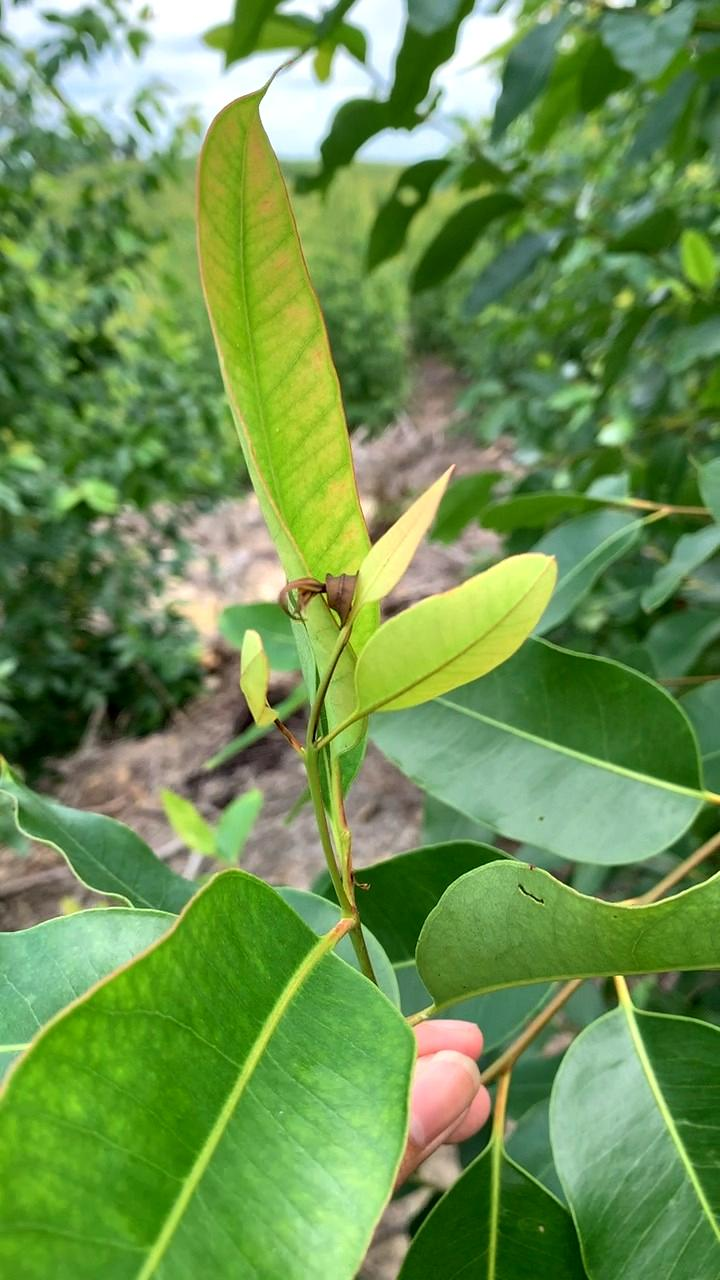Helopeltis-Withered Sprout: (285, 558, 371, 638)
